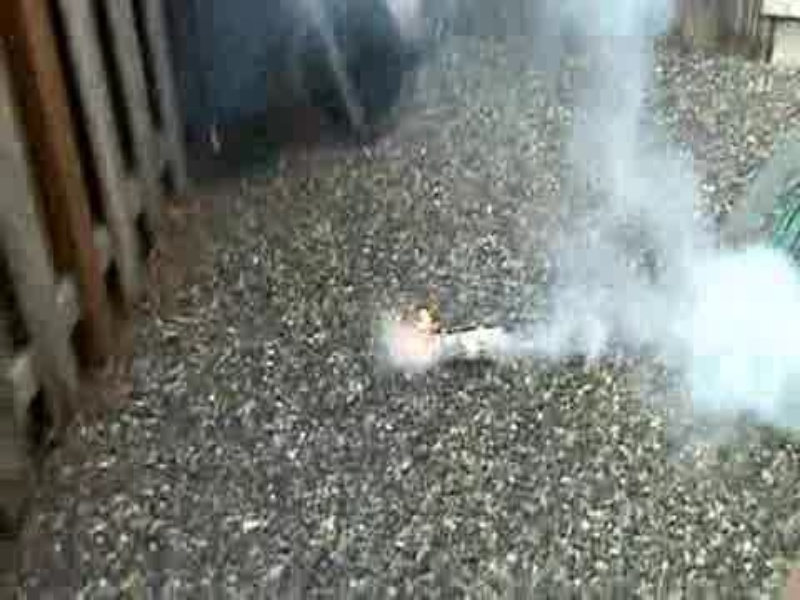smoke: (550, 216, 785, 402)
